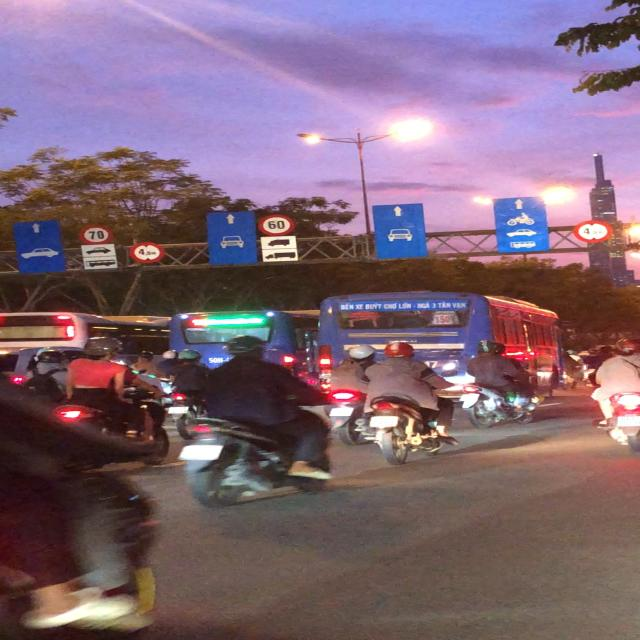Bien bao han che chieu cao: (571, 217, 613, 244), (128, 239, 166, 263)
Bien bao toc do toi da cho phep: (254, 213, 298, 237), (75, 224, 116, 244)
